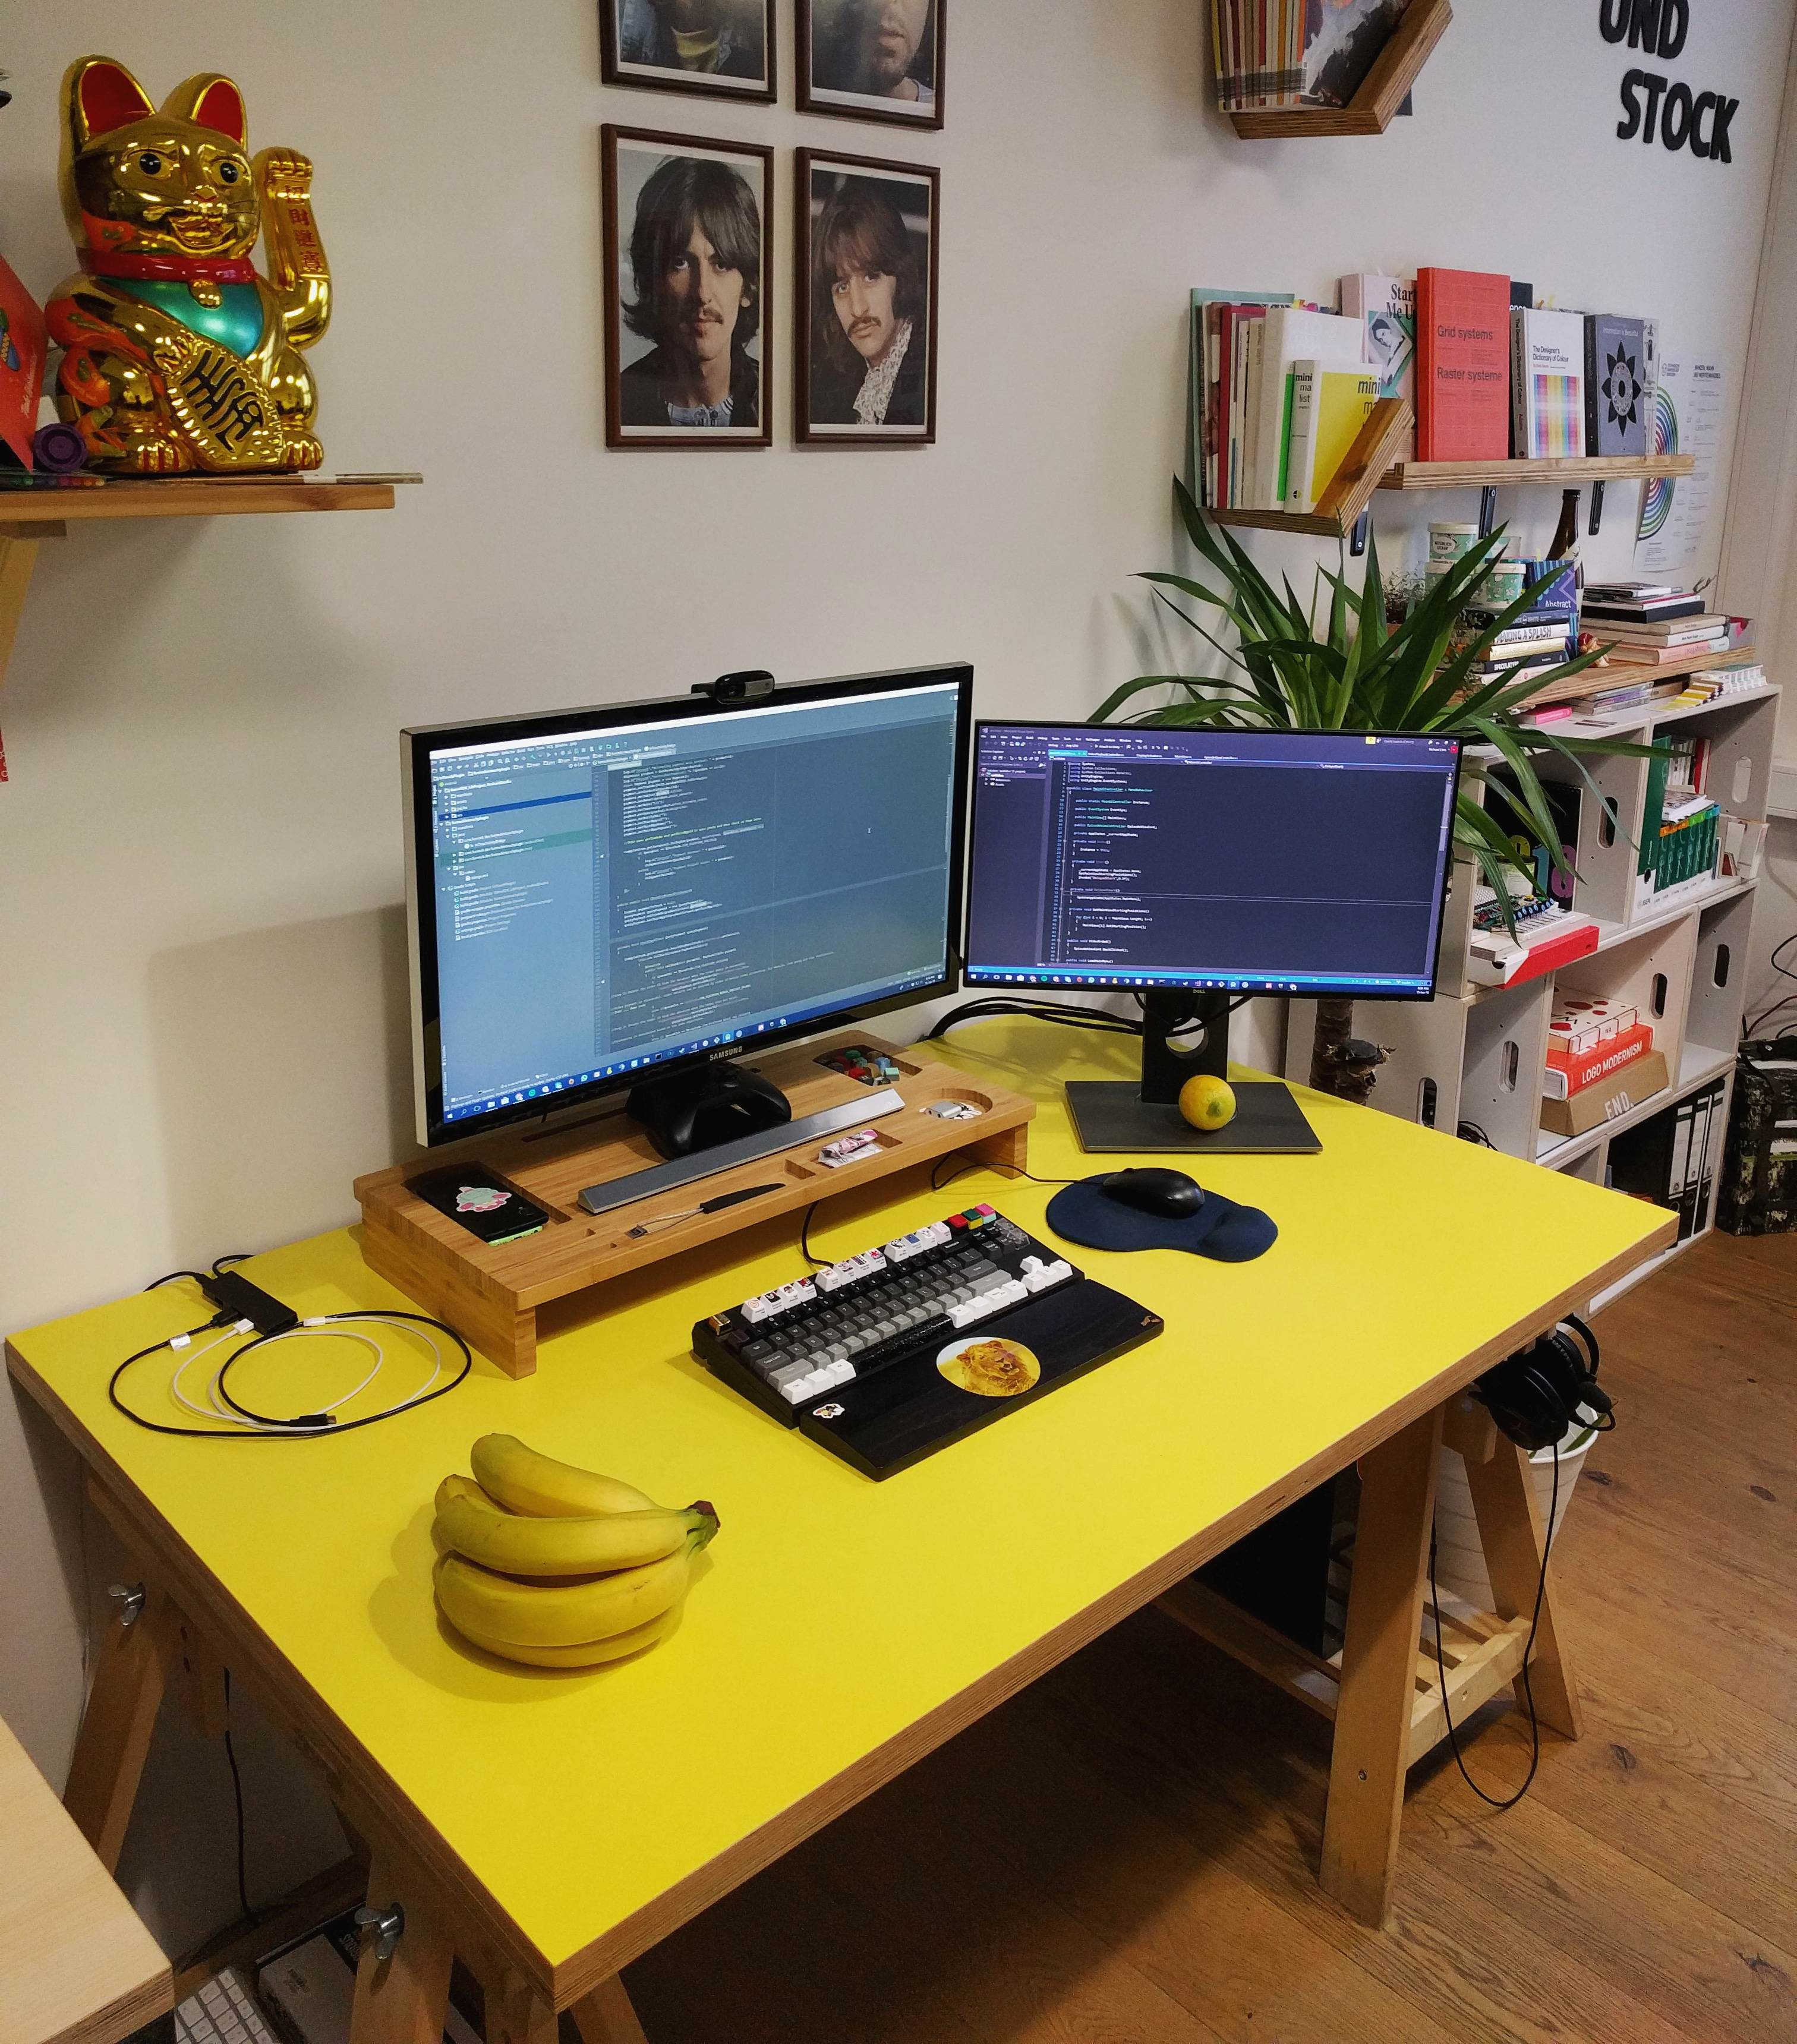Decoration (Miniature): (66, 49, 311, 476)
Decoration (Picture): (603, 130, 777, 462), (792, 146, 935, 452), (593, 0, 791, 103), (803, 0, 952, 130)
Decoration (Plant): (1137, 537, 1555, 862)
Desk (Generic): (0, 1022, 1684, 2044)
External Webcam: (690, 666, 789, 704)
Gaming Controller: (629, 1072, 803, 1137)
Headphones: (1463, 1291, 1625, 1457)
Keyboard (Generic): (747, 1199, 1001, 1420)
Monitor (Landscape): (412, 659, 975, 1140), (984, 723, 1430, 992)
Mouse (Generic): (1100, 1154, 1222, 1215)
Mousepad (Generic): (1036, 1173, 1347, 1262)
Trash Can: (1425, 1427, 1674, 1575)
USB Hub: (169, 1251, 328, 1345)
